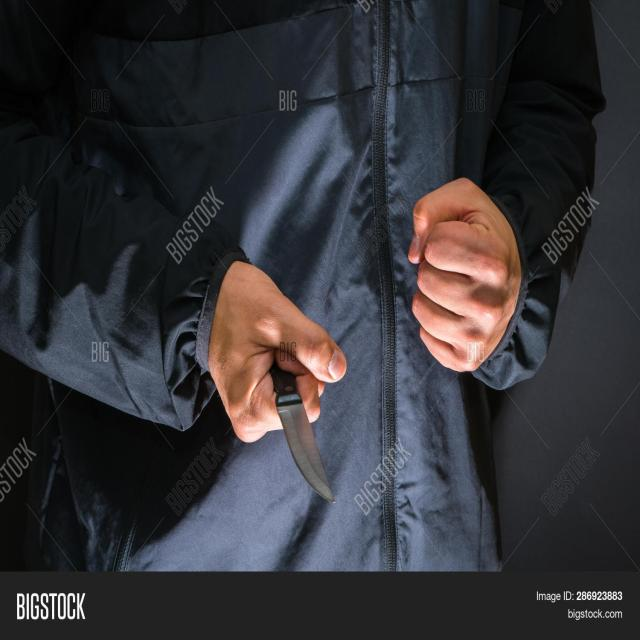Knife_Handle: (205, 260, 336, 503)
